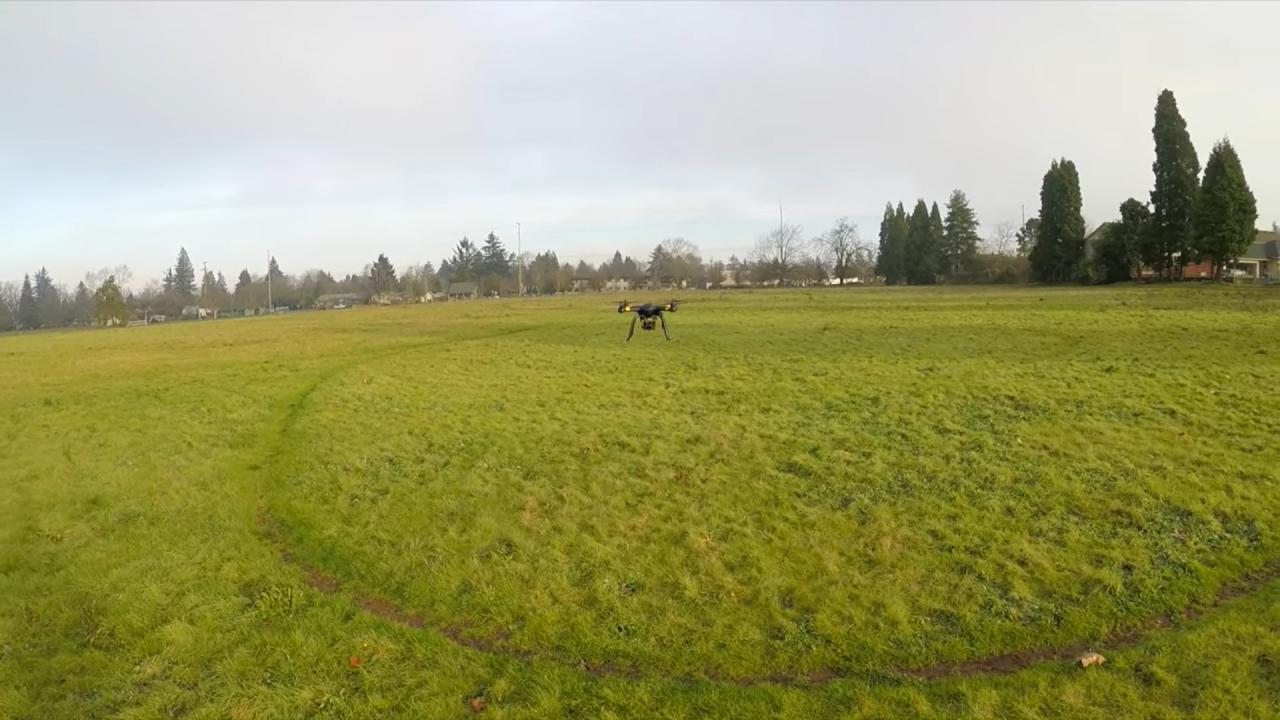Drone: (606, 291, 700, 348)
